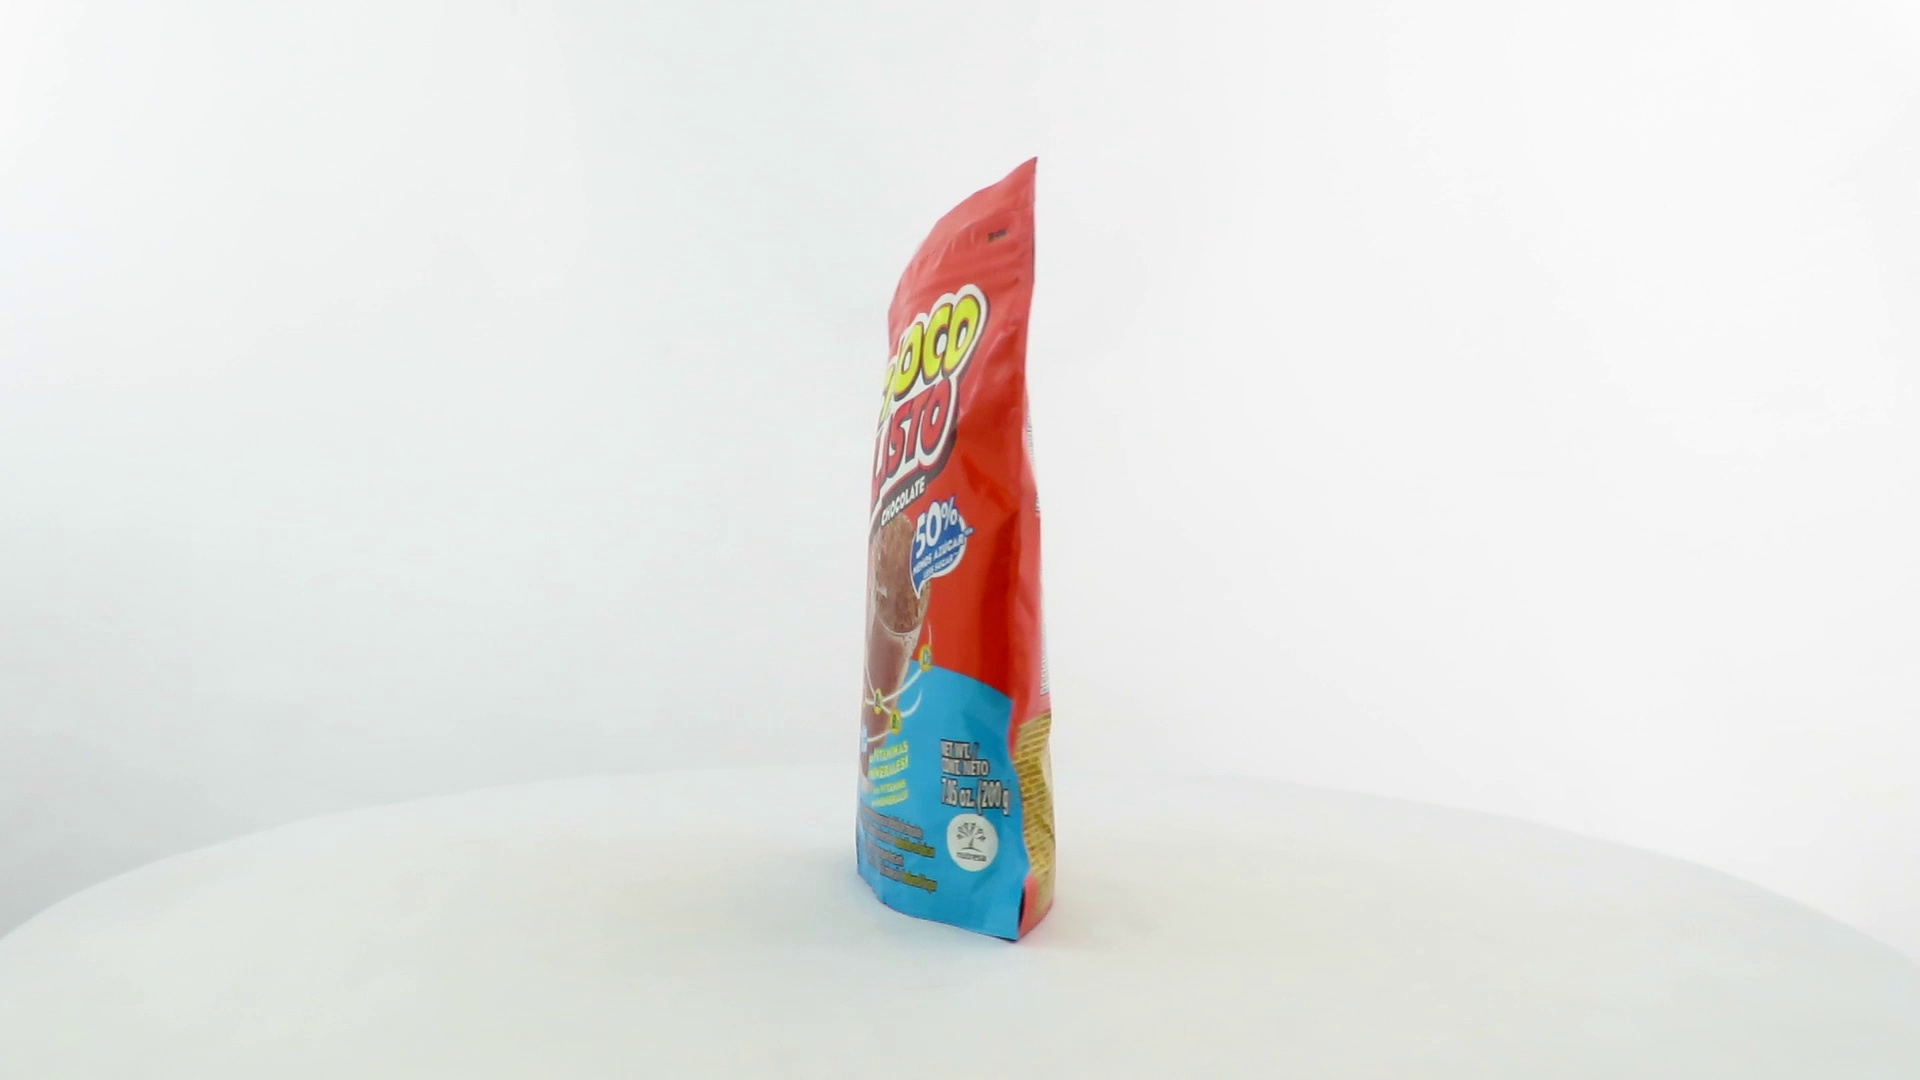COL0170104DYP20000: (851, 152, 1062, 949)
